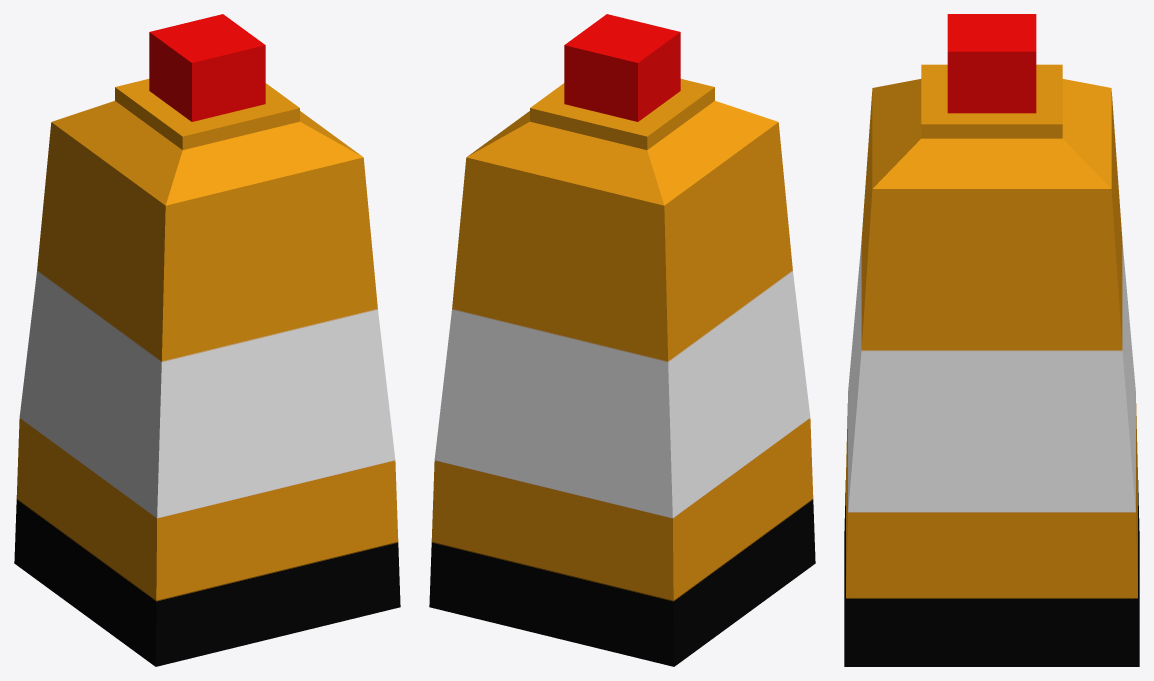
Rendered from Traffic_Barrel.glb.
3 renders of one model, left to right at view 1: azimuth 30°, elevation 25°; view 2: azimuth 150°, elevation 25°; view 3: azimuth 270°, elevation 25°, orthographic. The views are drawn at different scales.
Parts seen in each view (by area): view 1: Traffic Barrel; view 2: Traffic Barrel; view 3: Traffic Barrel.
Part boxes in pixels (bbox=[...]): Traffic Barrel: bbox=[14, 14, 400, 666]; Traffic Barrel: bbox=[429, 14, 815, 666]; Traffic Barrel: bbox=[844, 14, 1139, 666].
Size of what is drawn, in the model's own units: 0.4921 by 1.05 by 0.4921.
Materials: 1 (1 with a texture image).
